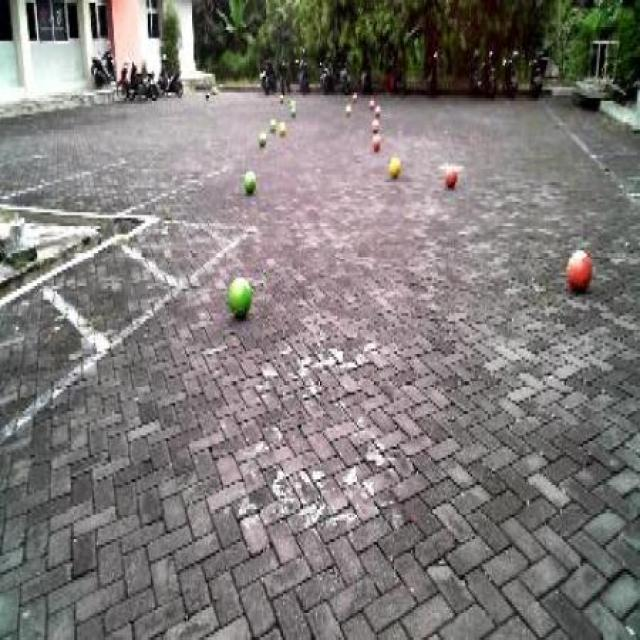buoy: (561, 238, 595, 298), (223, 268, 253, 324), (442, 159, 460, 192), (240, 166, 258, 196), (387, 152, 401, 178)
